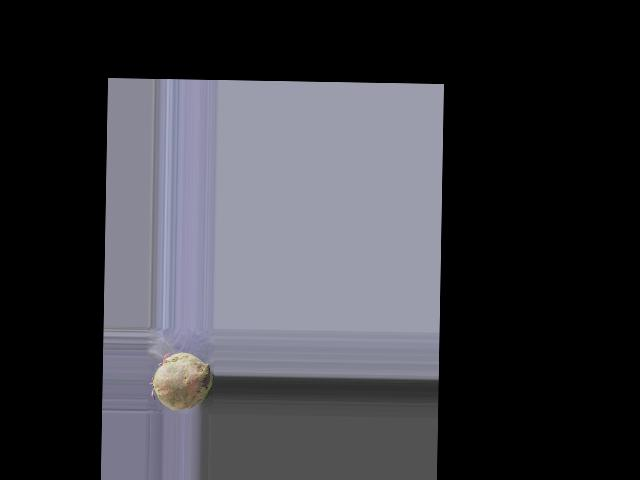beet: (150, 351, 212, 410)
